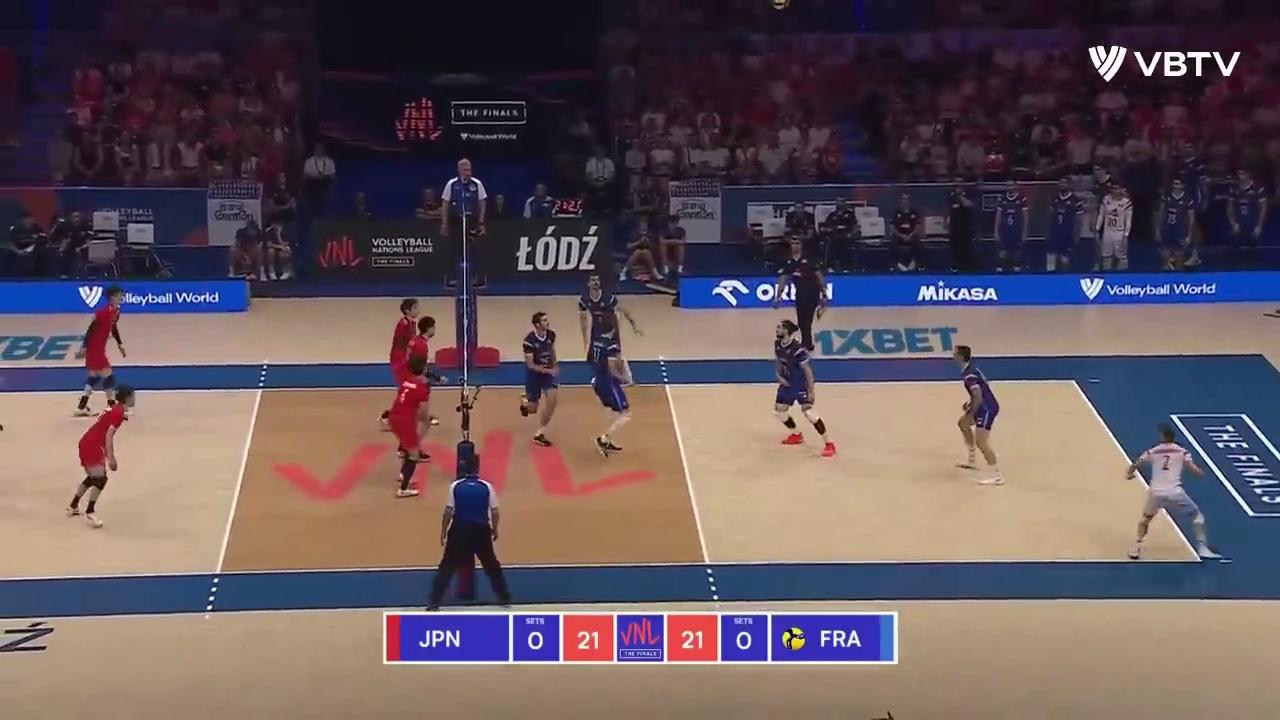ball: (772, 0, 789, 11)
